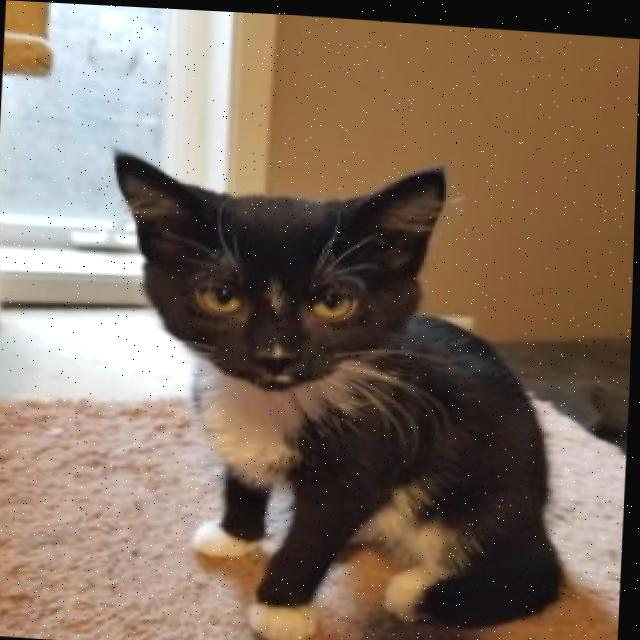Tuxedo: (93, 135, 588, 640)
